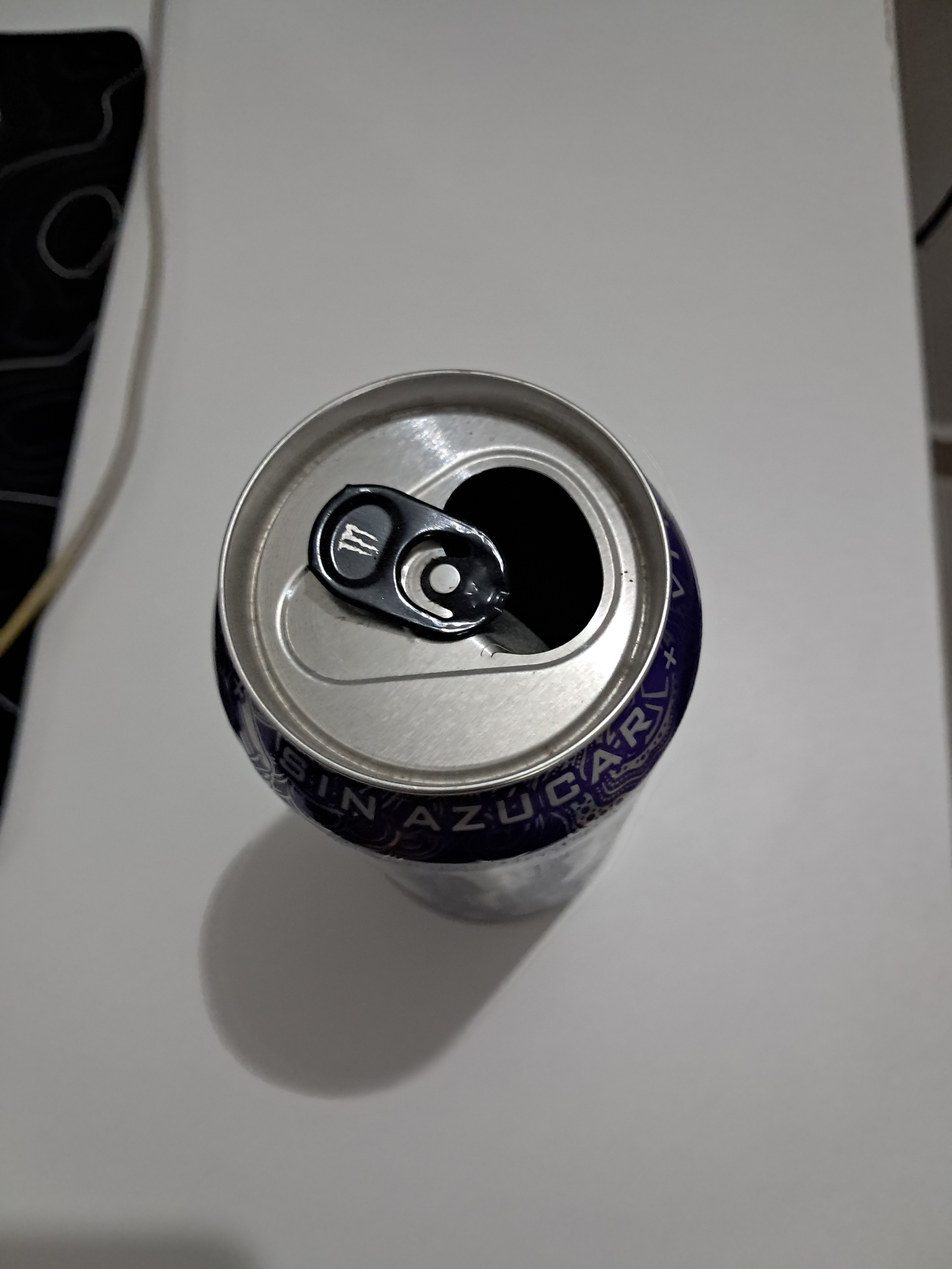energy_drink: (213, 371, 701, 919)
